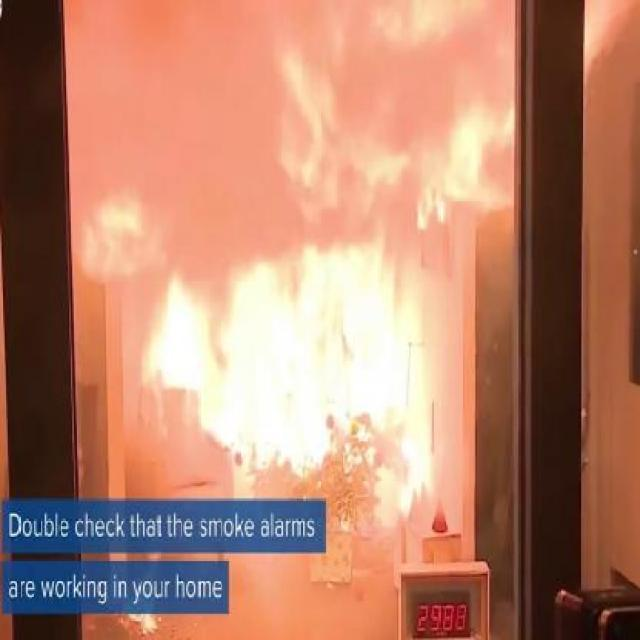fire: (227, 258, 436, 466)
